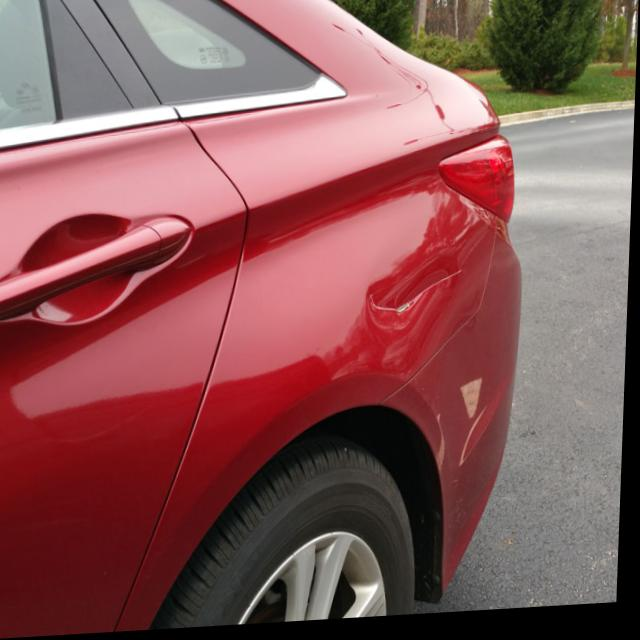Scratch: (459, 382, 491, 432)
